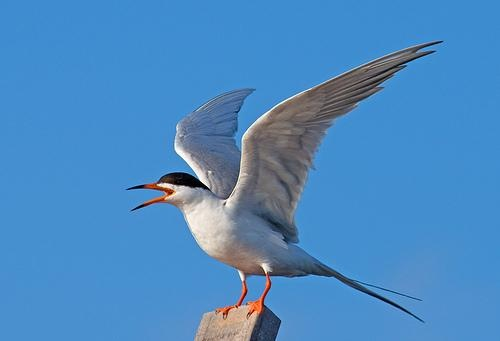bird: (123, 40, 447, 314)
